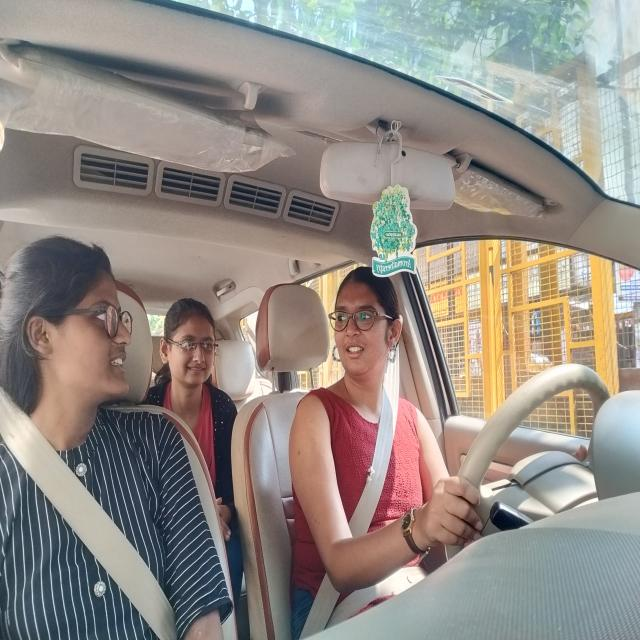LeftRight: (332, 264, 401, 378)
person: (6, 235, 136, 406), (158, 292, 221, 388)
talking: (105, 348, 130, 374), (347, 343, 368, 366)
